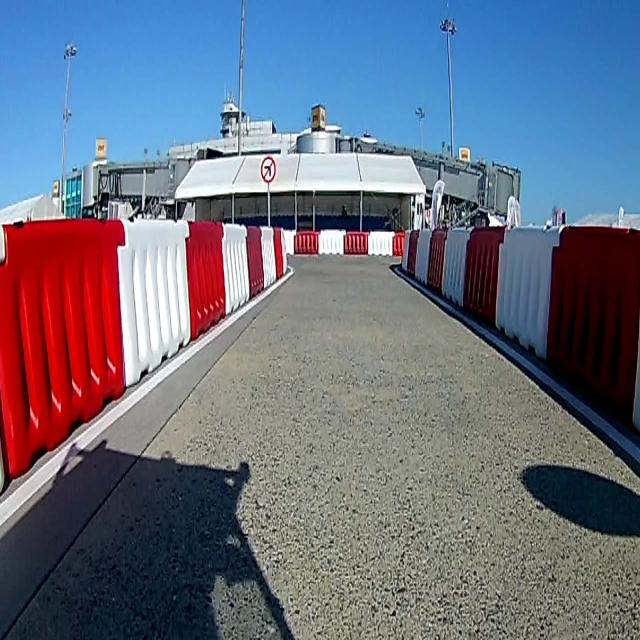soladonulmez: (260, 156, 275, 182)
